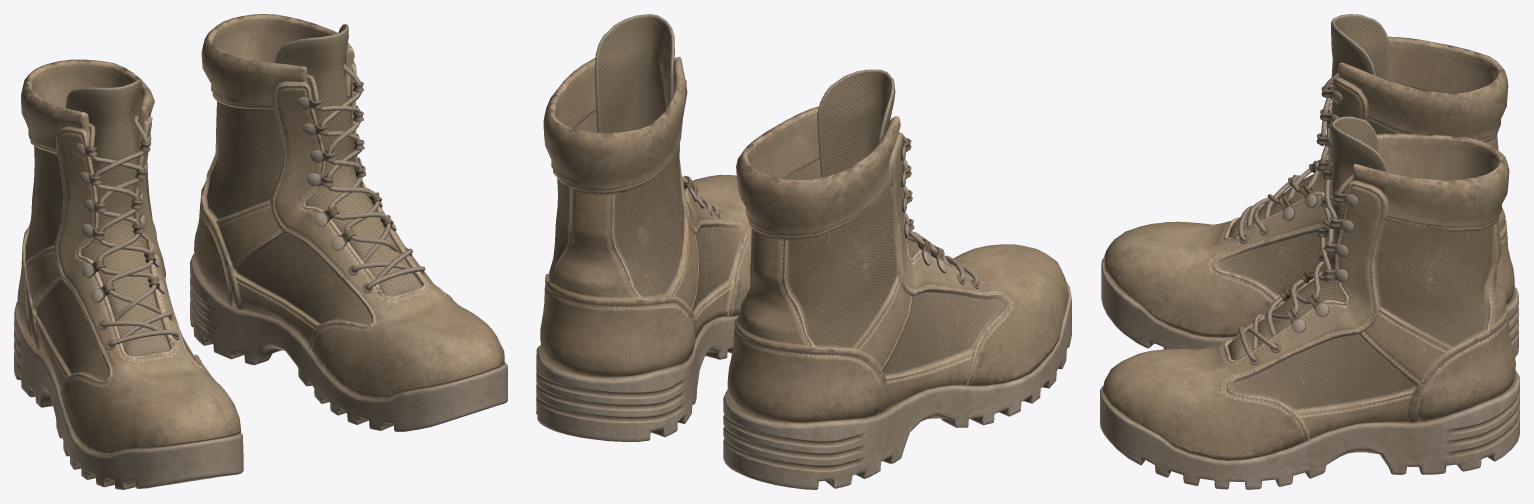
The model's file is uploads_files_4932484_Military-boots.fbx.
The picture shows the model from 3 angles, left to right: view 1: azimuth 30°, elevation 25°; view 2: azimuth 150°, elevation 25°; view 3: azimuth 270°, elevation 25°; orthographic projection. The views are drawn at different scales.
Parts seen in each view (by area): view 1: laces_mesh.002, laces_mesh.001; view 2: laces_mesh.001, laces_mesh.002; view 3: laces_mesh.002, laces_mesh.001.
Part boxes in pixels (bbox=[...]): laces_mesh.002: bbox=[190, 14, 507, 431]; laces_mesh.001: bbox=[14, 59, 243, 489]; laces_mesh.001: bbox=[723, 69, 1071, 489]; laces_mesh.002: bbox=[536, 14, 751, 441]; laces_mesh.002: bbox=[1100, 116, 1519, 489]; laces_mesh.001: bbox=[1101, 14, 1518, 357].
Bounding box in the file's own units: 0.3431 × 0.2779 × 0.322.
Materials: 5 (5 with a texture image).
